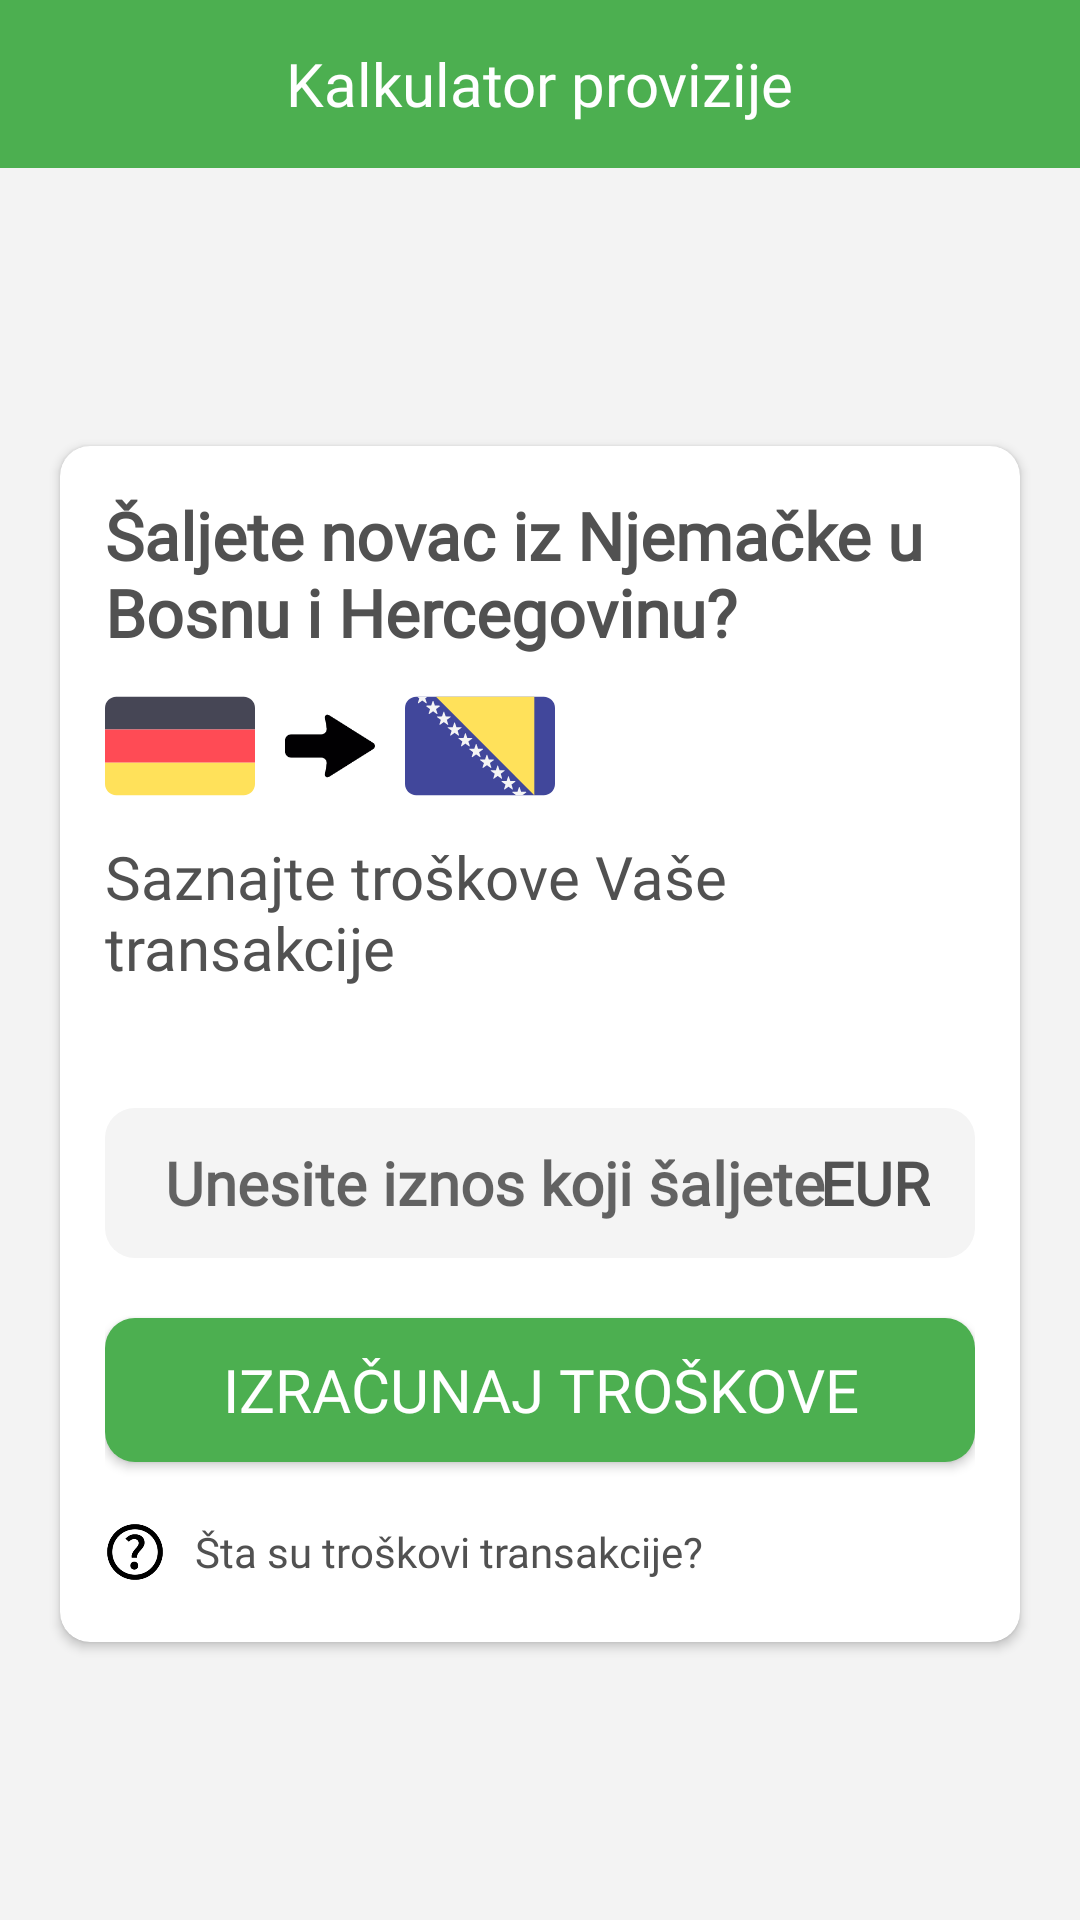

Screen size 1080x1920. Icon name, then its box in pixels as (left=x1, top=y1, right=x2, bottom=y2):
bosnia: (left=405, top=696, right=555, bottom=796)
faq: (left=107, top=1524, right=163, bottom=1580)
germany: (left=105, top=696, right=255, bottom=796)
